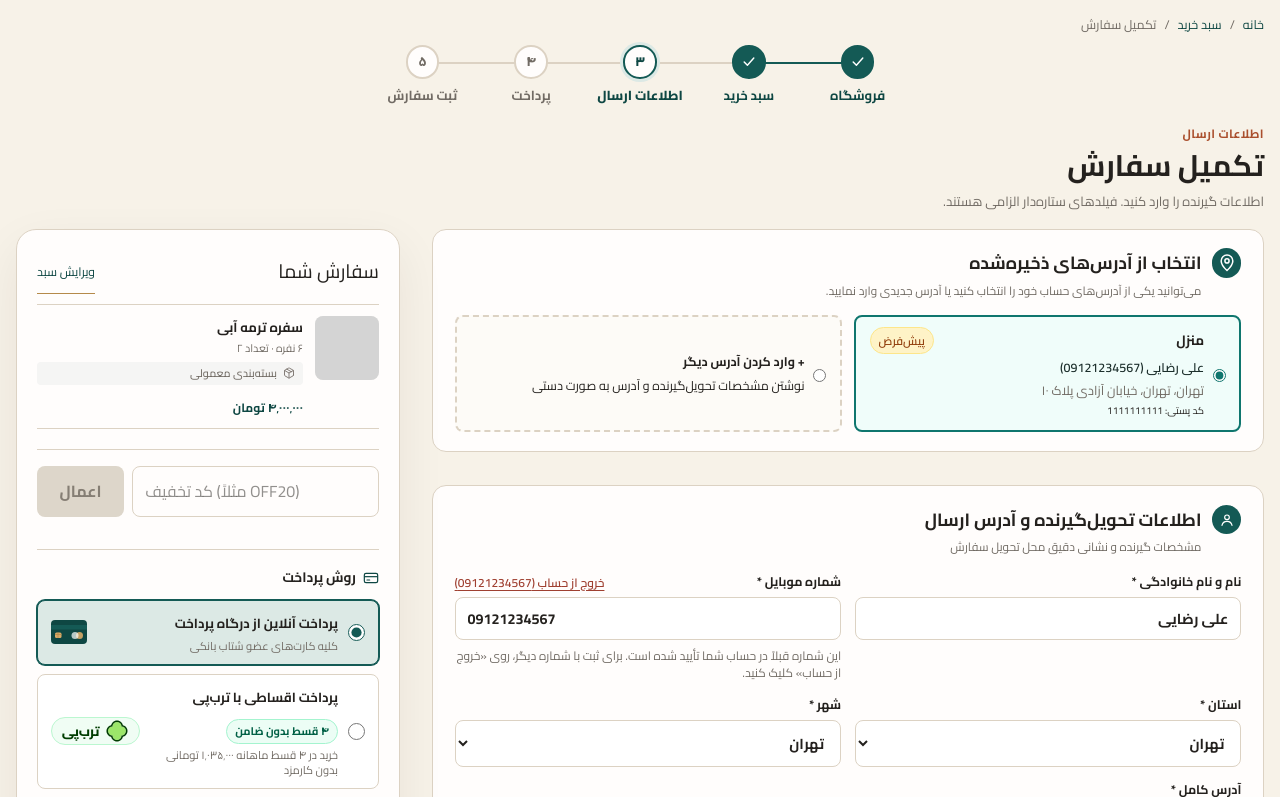
Test: checkout order review › clears shipping address fields when user clicks 'وارد کردن آدرس دیگر'
Expected: the field labelled "نام و نام خانوادگی *" holds "علی رضایی", top-left (855, 597), bottom-right (1241, 640)
Expected: the dropdown labelled "استان *" shows "تهران", top-left (855, 720), bottom-right (1241, 767)
Click on "وارد کردن آدرس دیگر"
What coordinates should you click on to do the following:
click the radio button labelled "+ وارد کردن آدرس دیگر"
I would click on:
 (820, 376)
Its box is top-left (813, 369), bottom-right (826, 382).
(page scrolled)
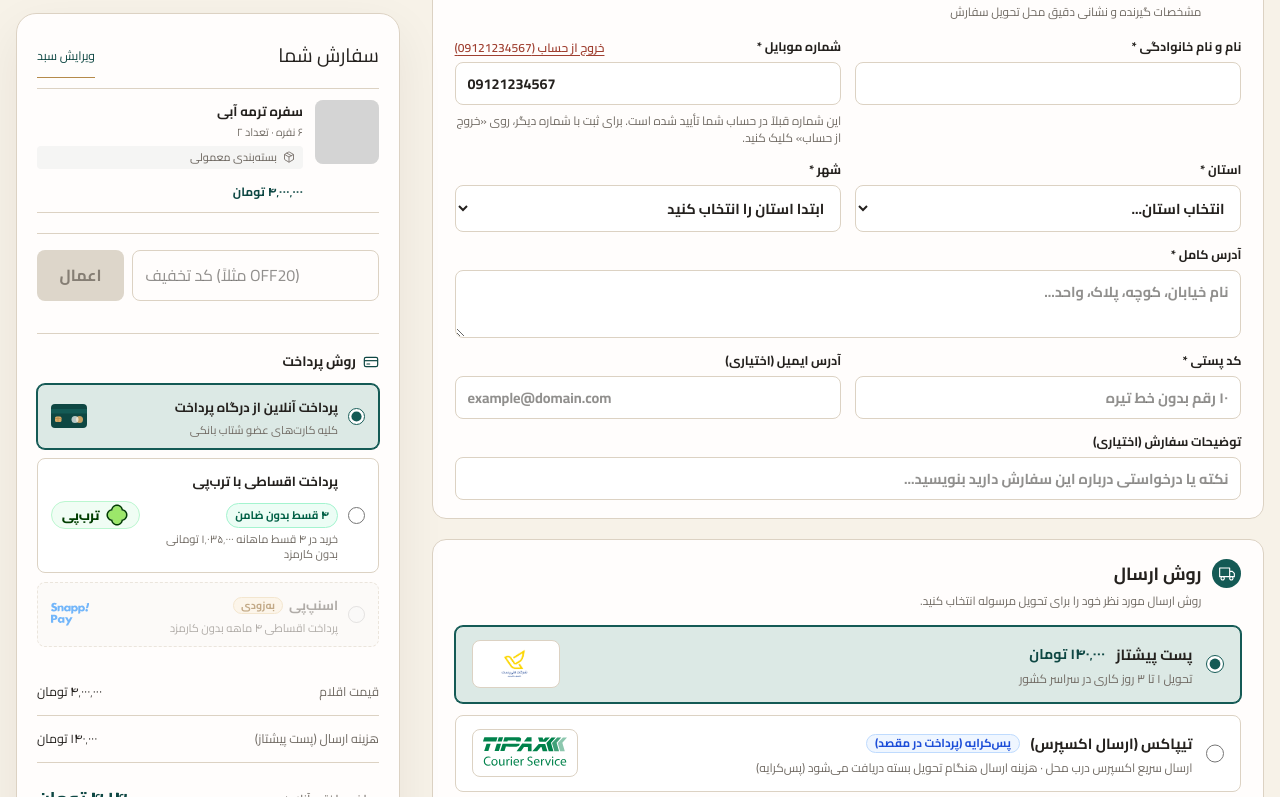
Expected: the field labelled "نام و نام خانوادگی *" is empty, top-left (855, 62), bottom-right (1241, 105)
Expected: the dropdown labelled "استان *" shows "انتخاب استان...", top-left (855, 185), bottom-right (1241, 232)
Expected: the dropdown labelled "شهر *" shows "ابتدا استان را انتخاب کنید", top-left (455, 185), bottom-right (841, 232)
